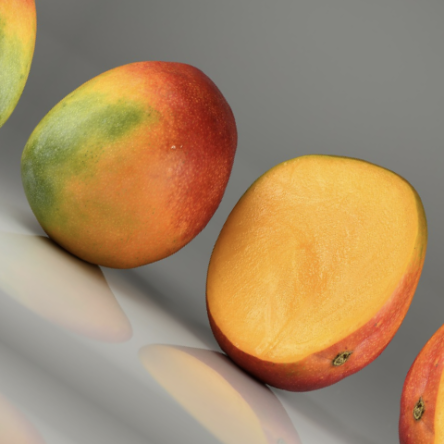mango: (144, 96, 444, 444), (0, 6, 282, 330)
